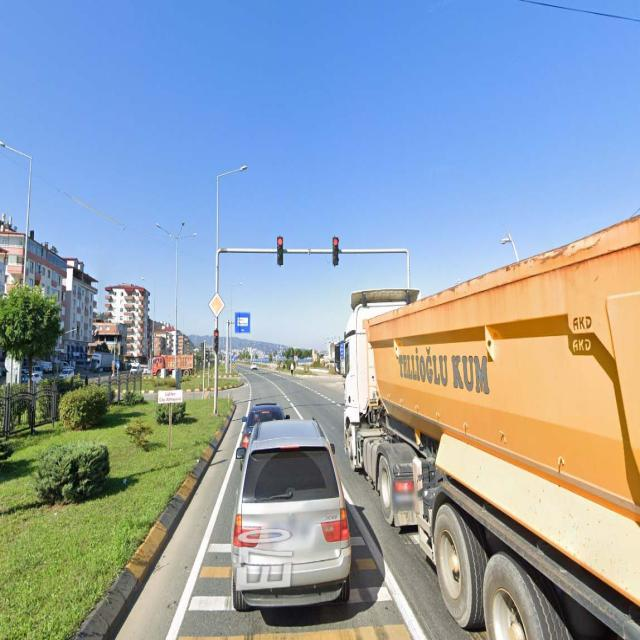kirmizi: (278, 237, 284, 264), (333, 237, 338, 264), (214, 330, 219, 351)
